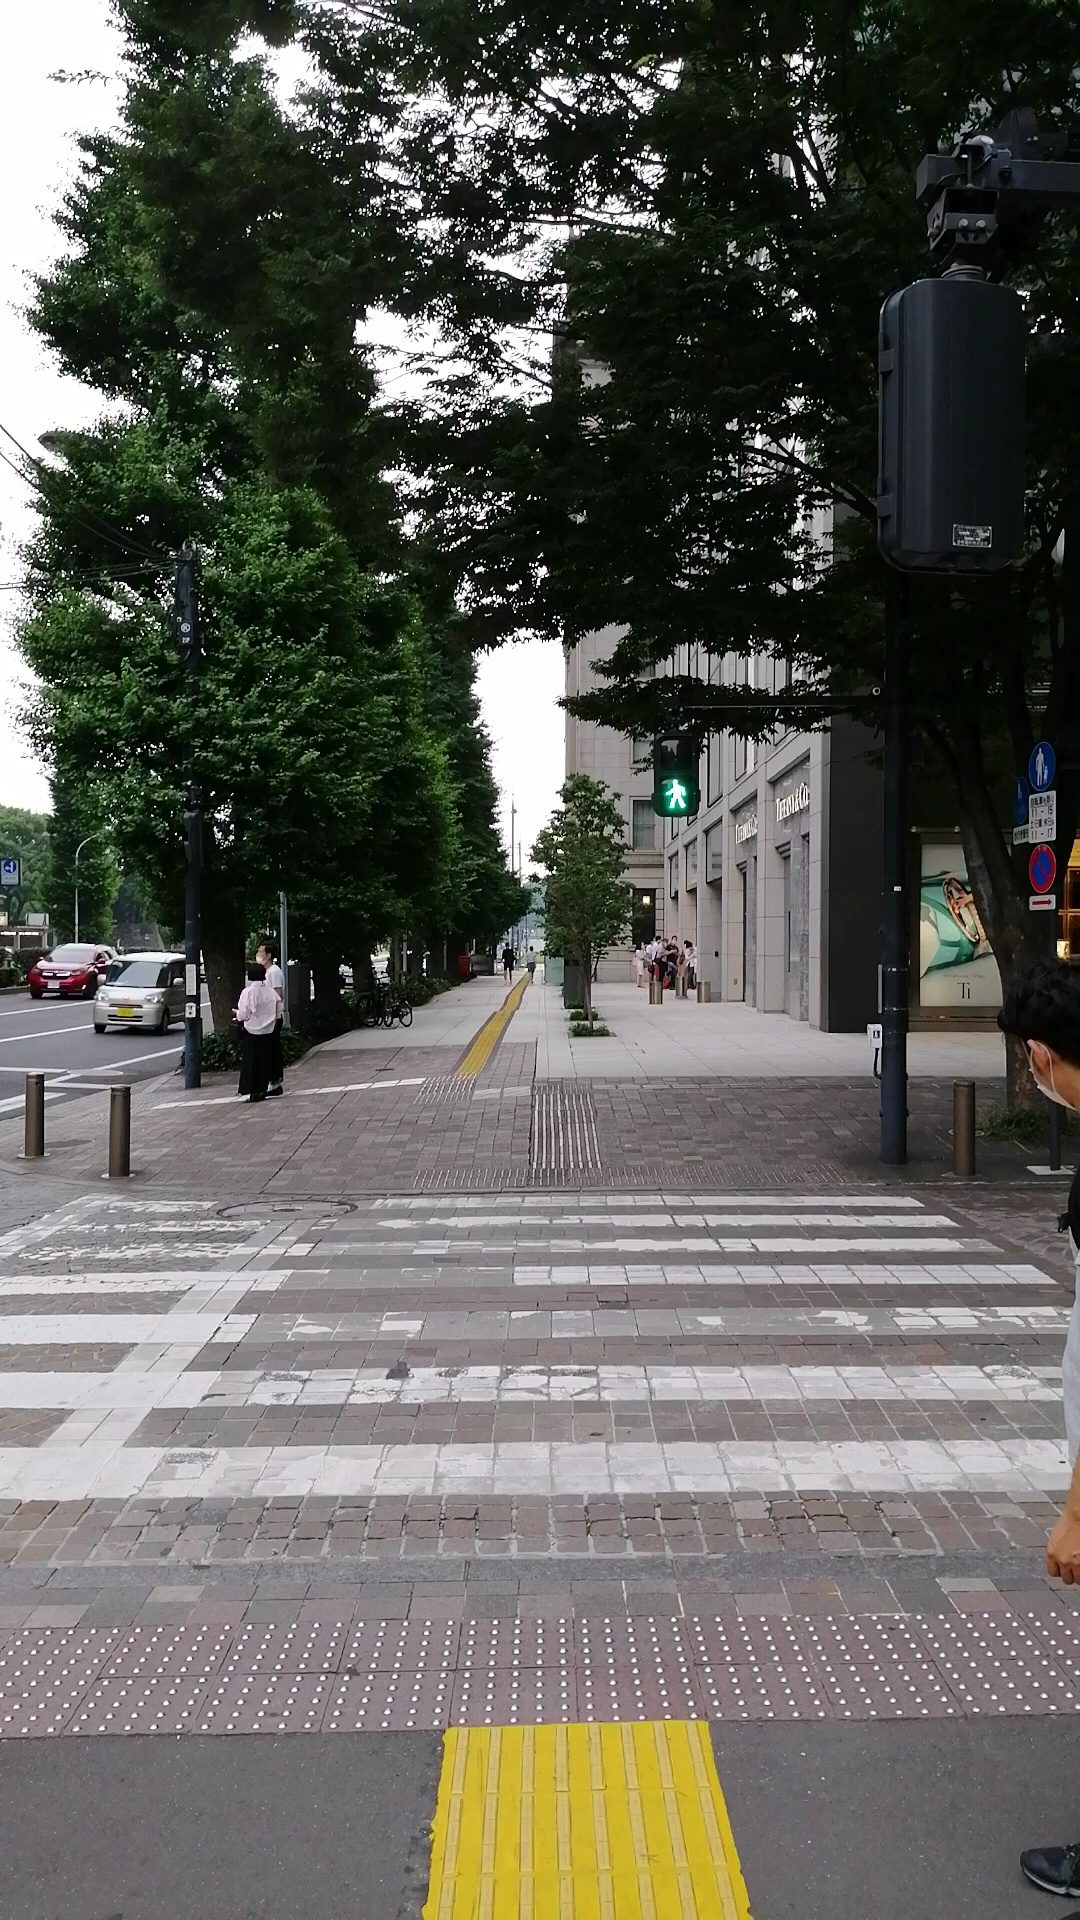green: (651, 732, 702, 816)
